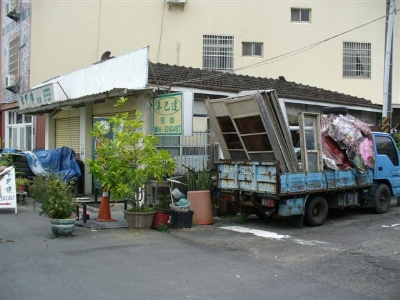box: (171, 211, 194, 229)
bucket: (186, 190, 213, 226)
plastic_bag: (25, 146, 82, 180), (326, 116, 363, 148), (346, 137, 375, 170)
tire: (321, 105, 348, 115)
